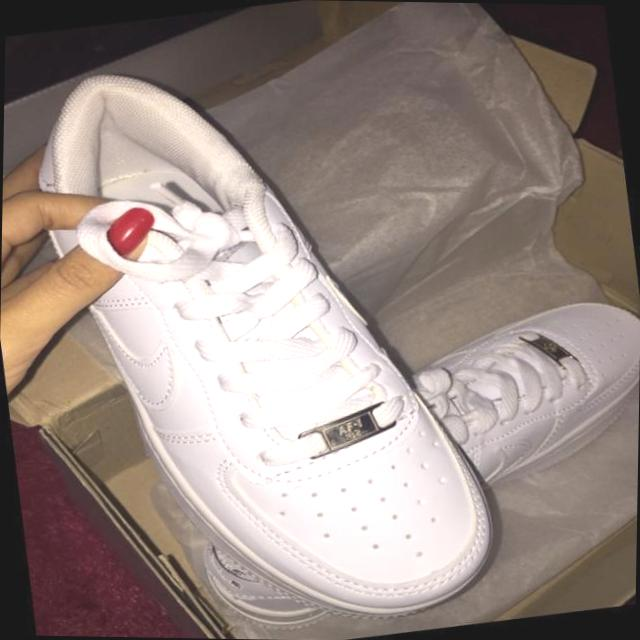nike_fake_airforce: (0, 21, 523, 640), (169, 282, 640, 640)
